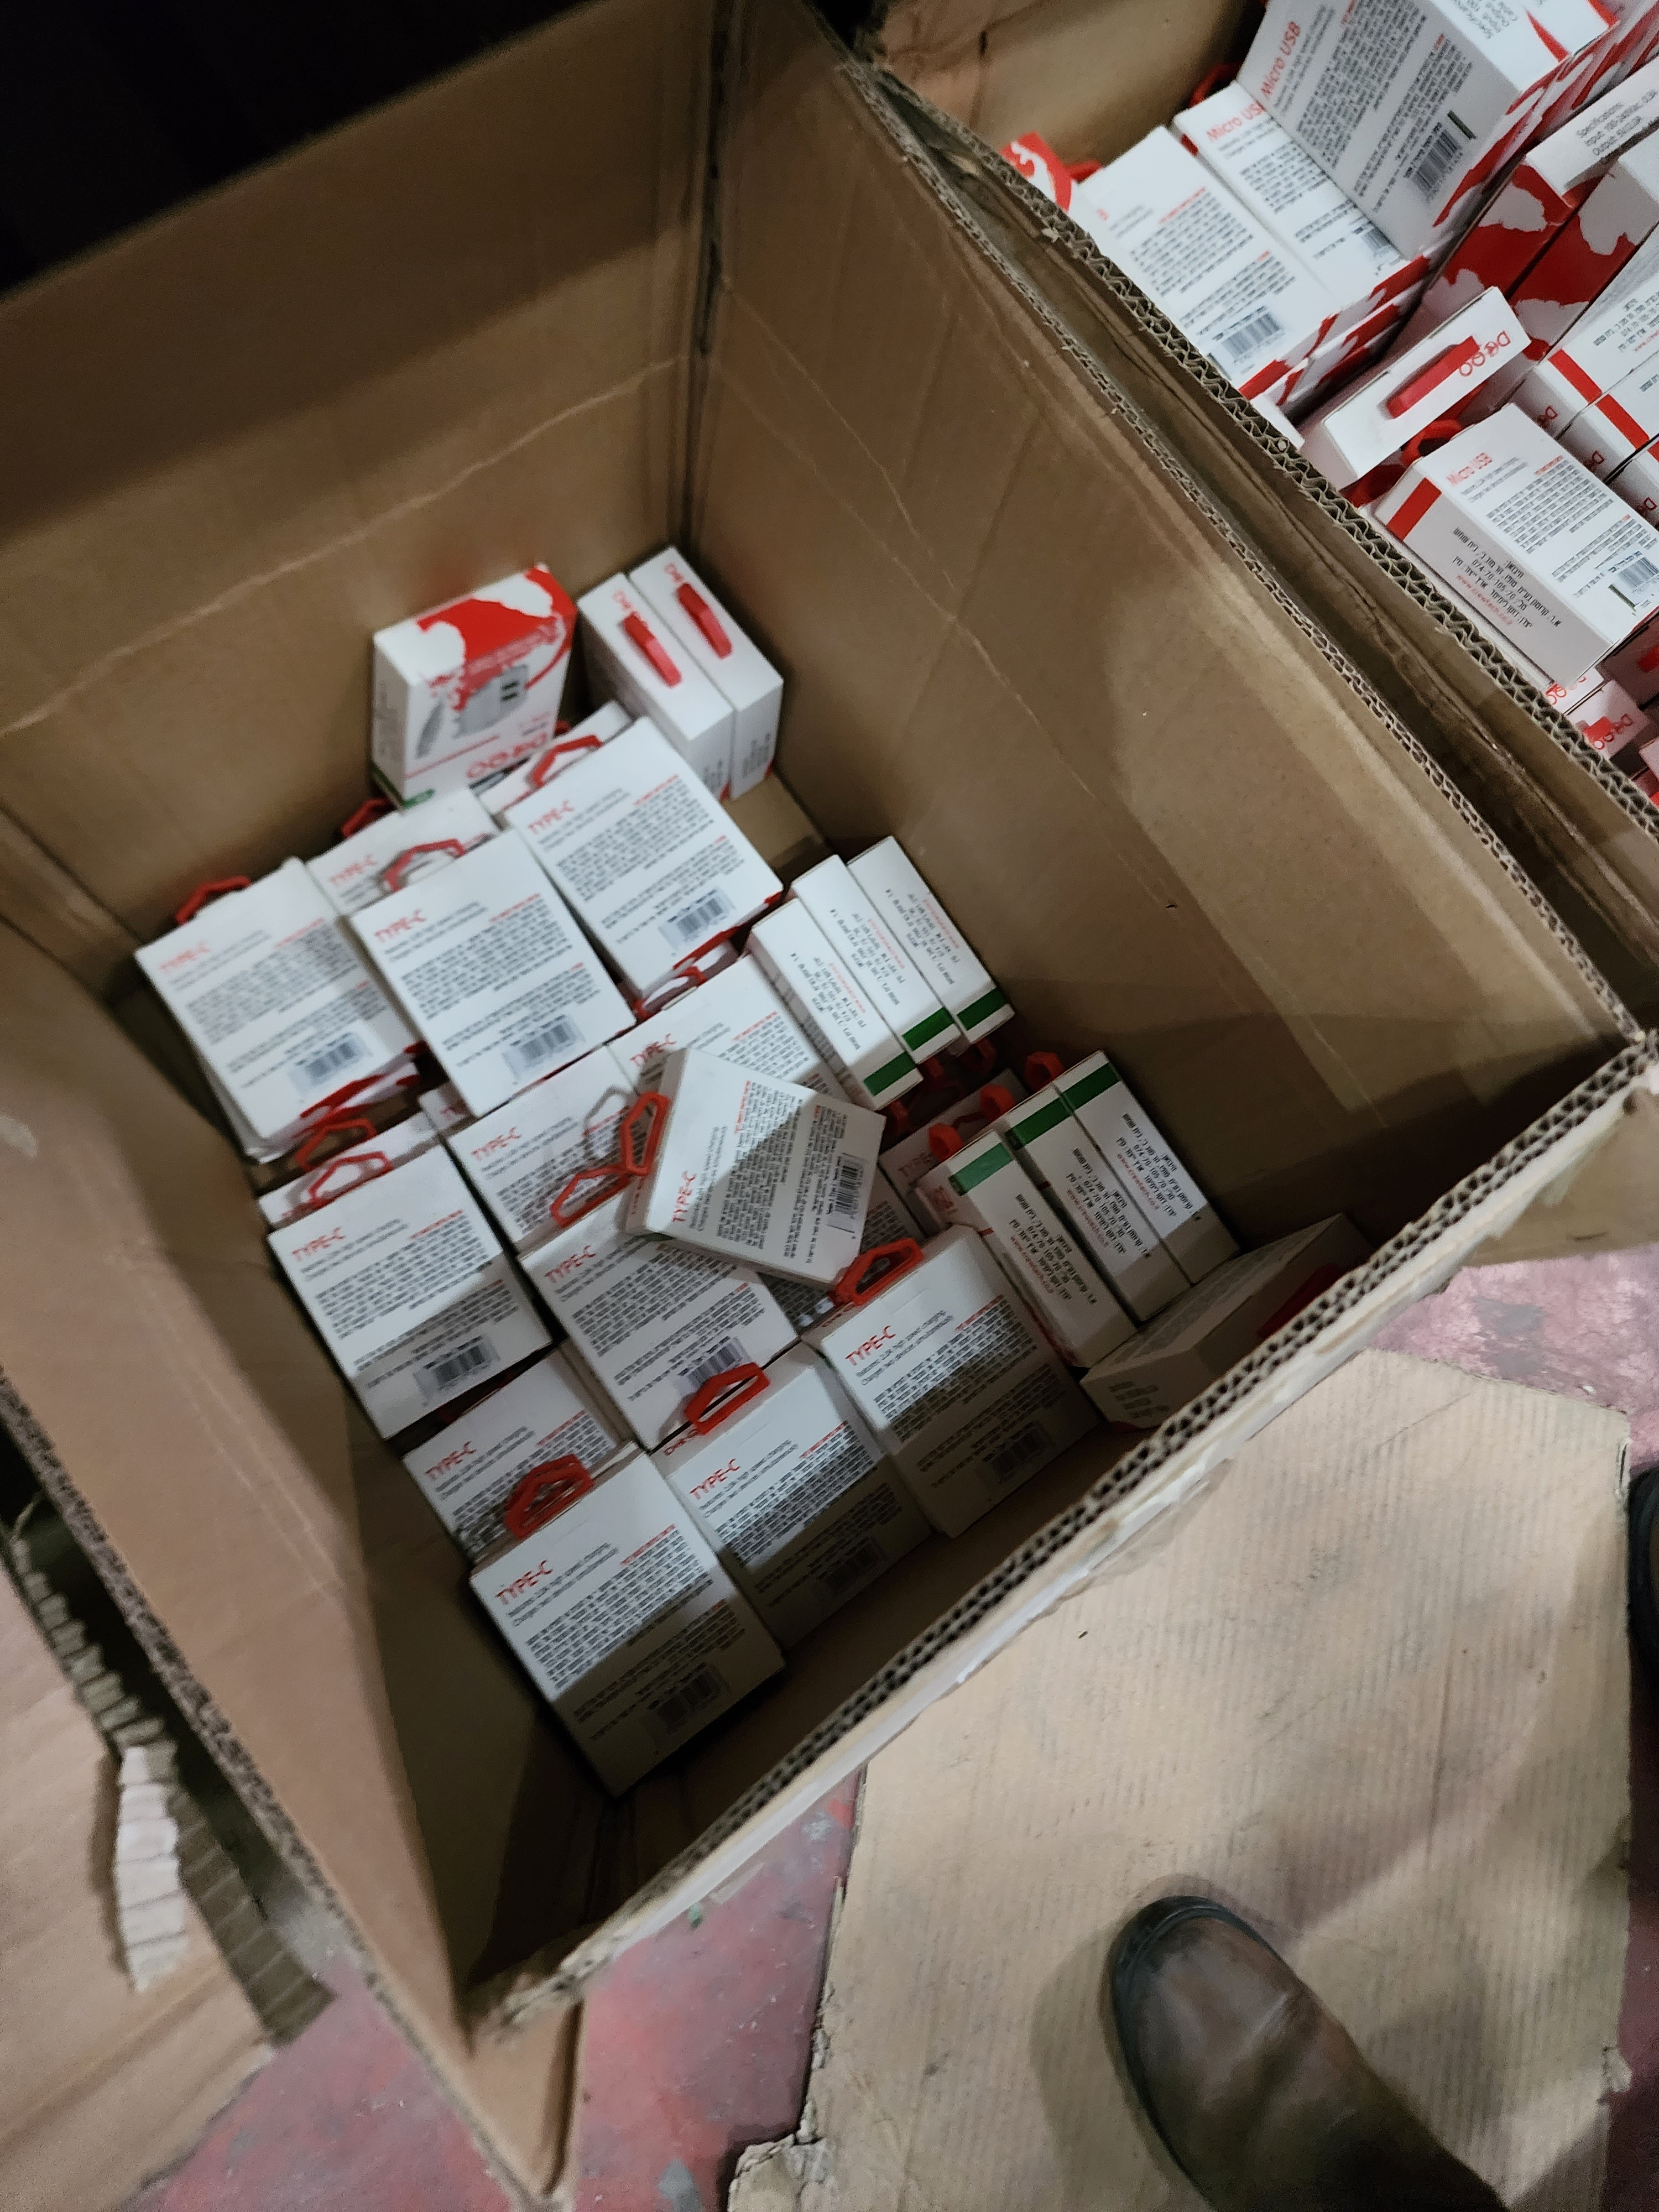box: (110, 52, 1638, 2052)
other: (476, 1454, 753, 1775), (152, 855, 450, 1141), (610, 1047, 936, 1305), (749, 845, 1042, 1096), (350, 871, 613, 1089), (307, 1155, 519, 1388), (606, 528, 779, 751)
